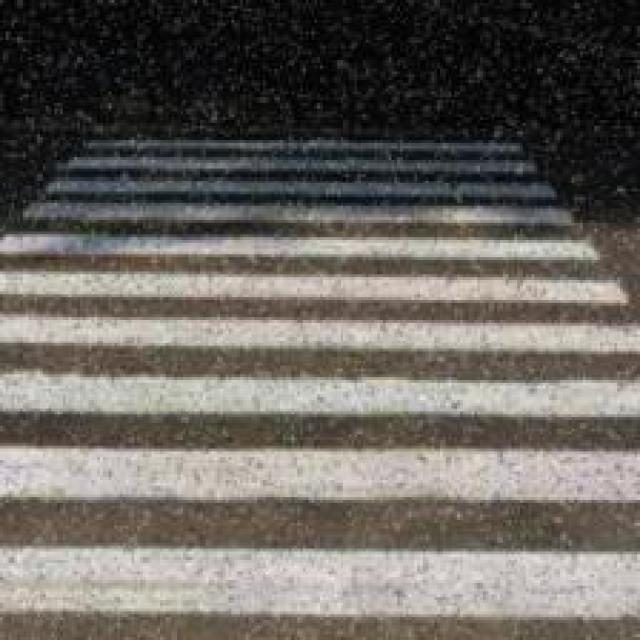walk-crossing: (4, 132, 639, 637)
